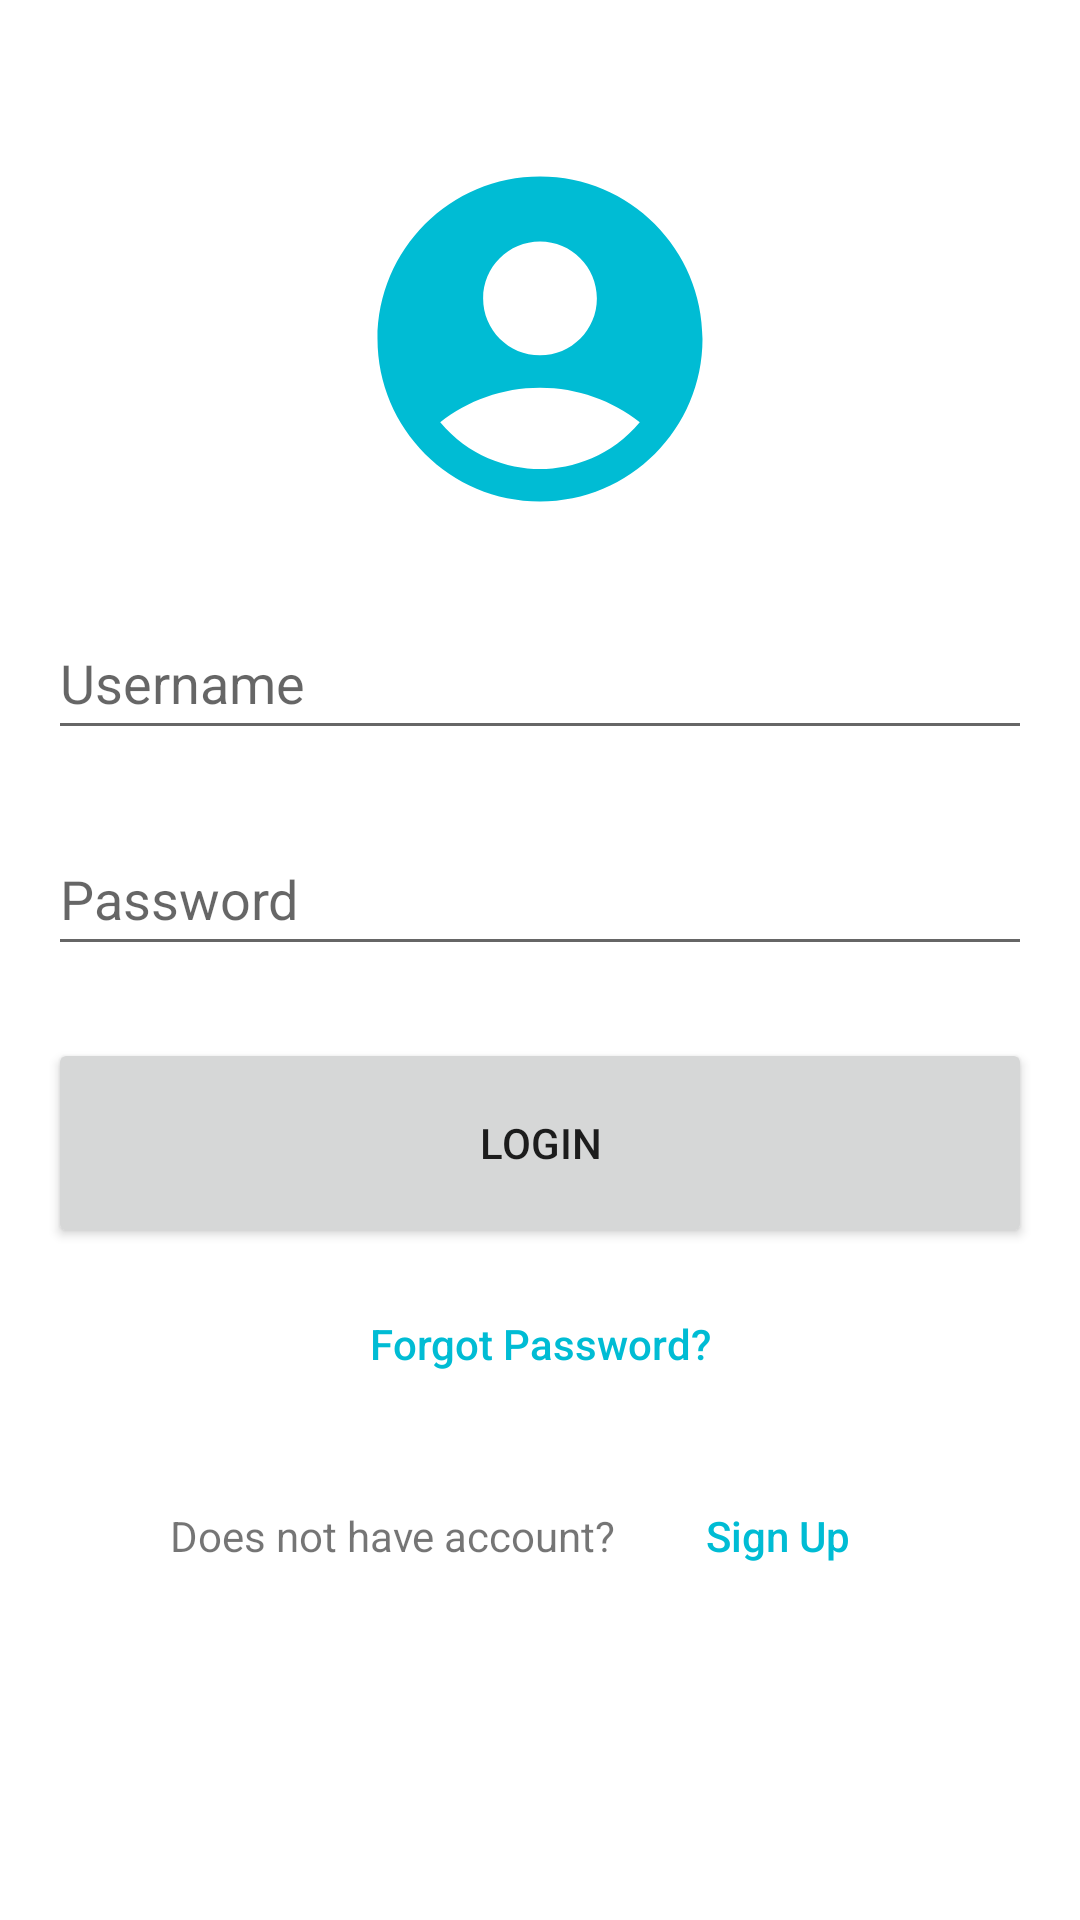

Named icons in this screenshot (1080x1920) and their centers, [x,y]:
login user: [540,339]
